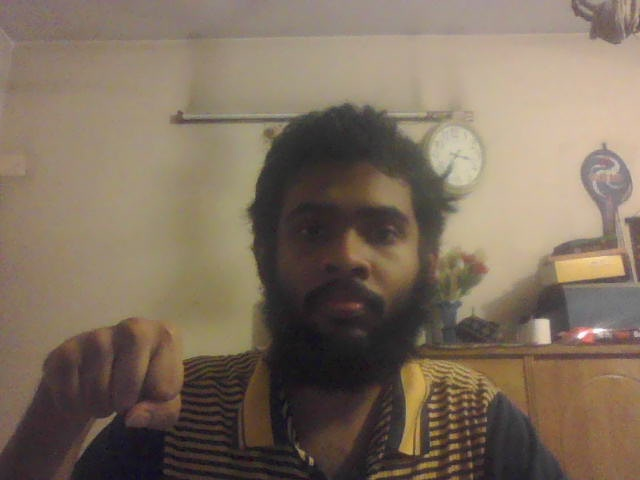Yes: (33, 319, 183, 428)
